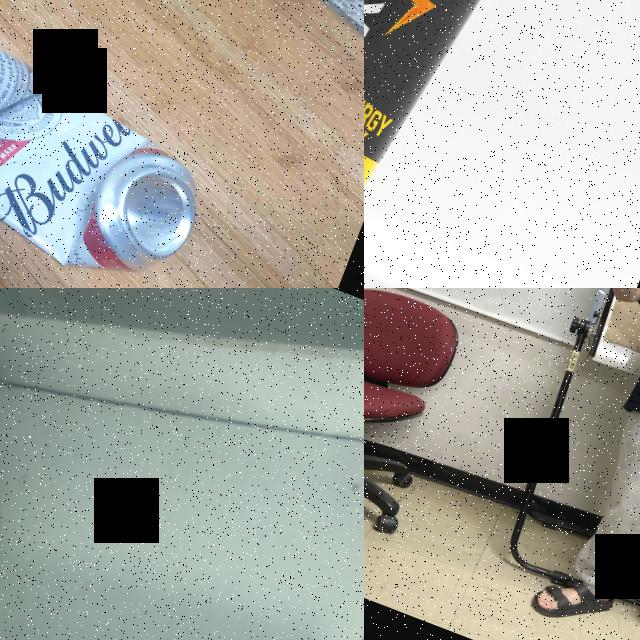can: (364, 0, 587, 285)
